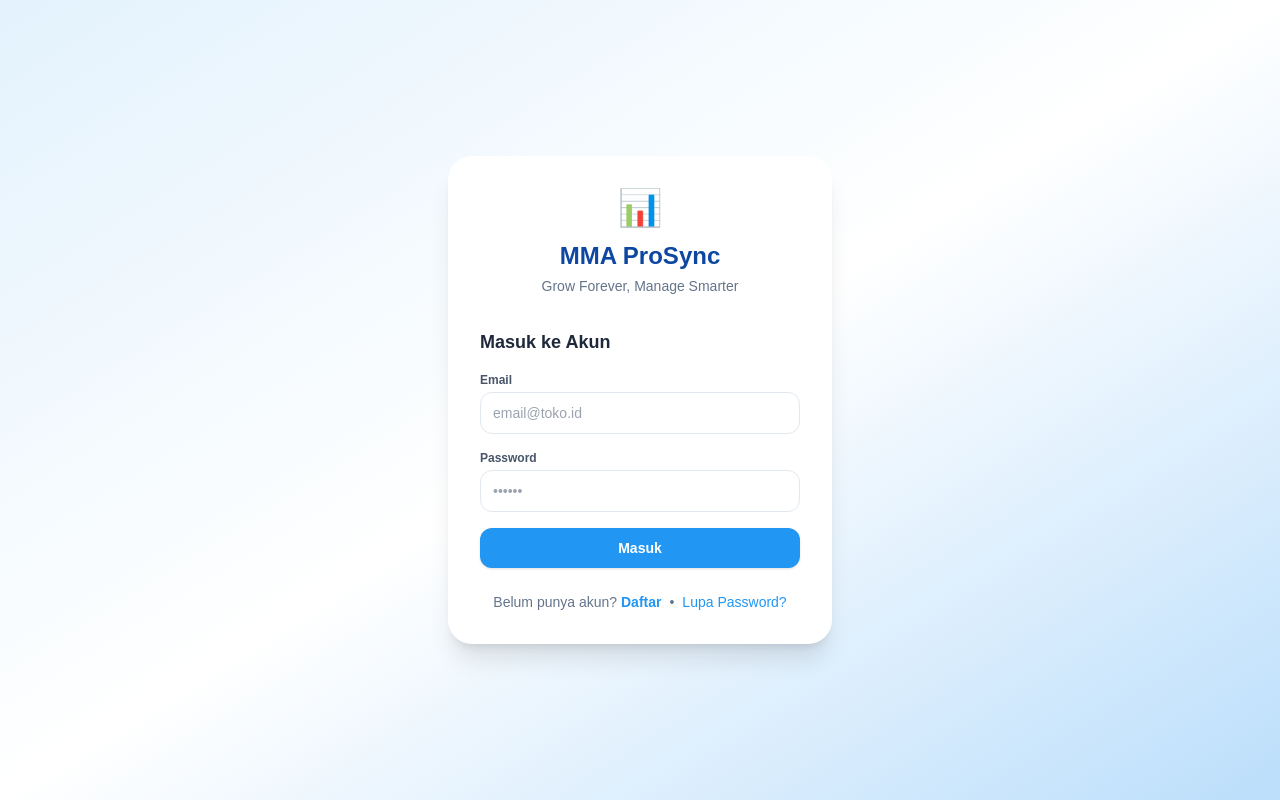
it: LoginPage › shows error for empty fields
This screenshot has width=1280, height=800.
Click the button "Masuk" at (640, 548), box [480,528,800,568]
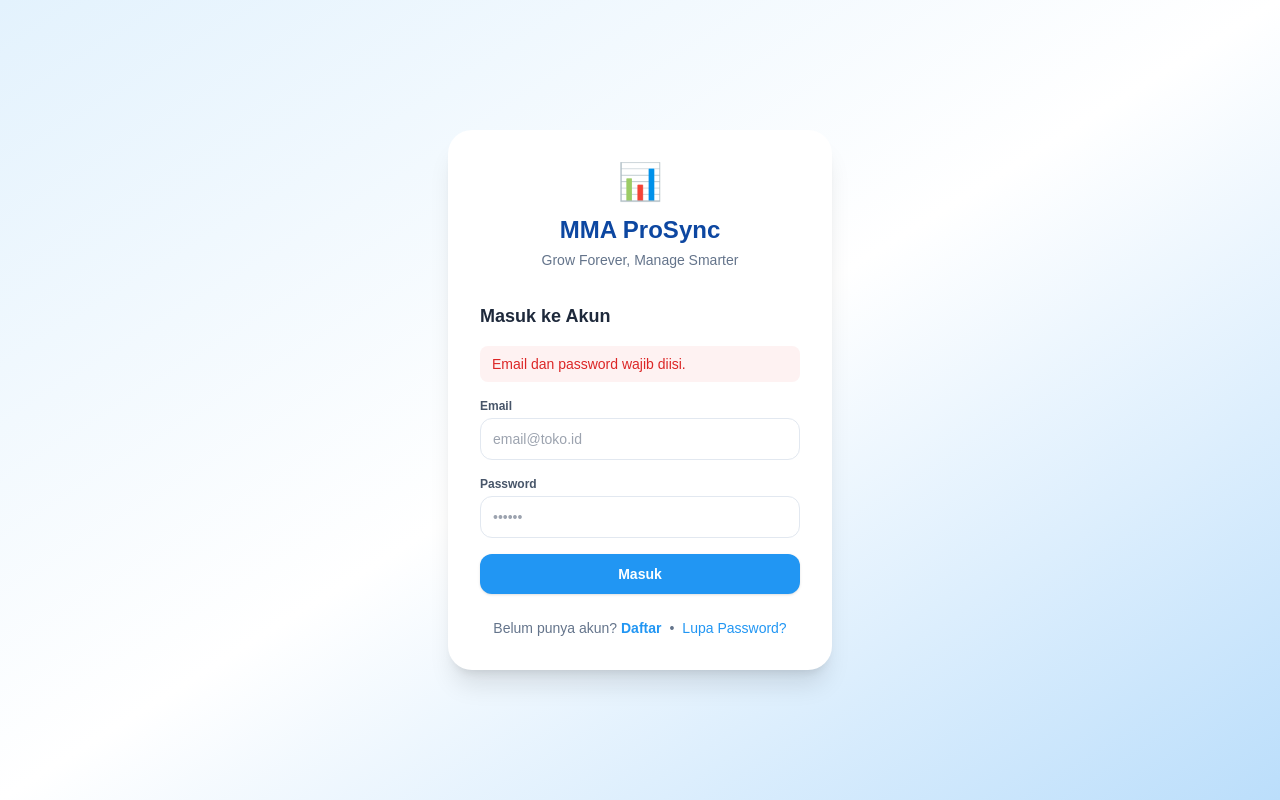
Now the message shows "Email dan password wajib diisi", box [492,356,686,372]
